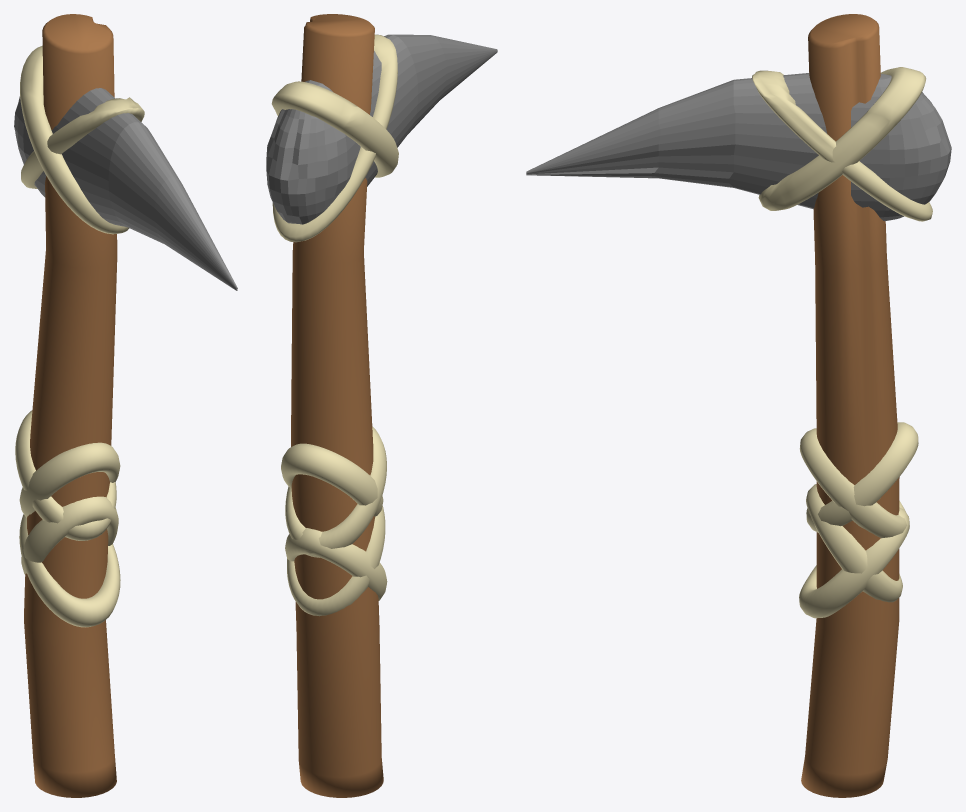
The model's file is pickaxe.glb.
3 views of the same model, side by side, from view 1: azimuth 30°, elevation 25°; view 2: azimuth 150°, elevation 25°; view 3: azimuth 270°, elevation 25° (orthographic).
Parts seen in each view (by area): view 1: Cylinder, Cylinder.001, Torus, Torus.005, Torus.003, Torus.004, Torus.001, Torus.002, Sphere; view 2: Cylinder, Sphere, Cylinder.001, Torus, Torus.001, Torus.002, Torus.003, Torus.004, Torus.005; view 3: Cylinder, Cylinder.001, Sphere, Torus, Torus.001, Torus.003, Torus.005, Torus.002, Torus.004.
Boxes of the visible parts, x1,y1,x2,y2 form: Cylinder: [24, 14, 117, 797]; Cylinder.001: [51, 88, 237, 290]; Torus: [20, 45, 129, 234]; Torus.005: [19, 514, 120, 627]; Torus.003: [19, 442, 120, 517]; Torus.004: [21, 496, 118, 574]; Torus.001: [21, 97, 144, 188]; Torus.002: [15, 410, 116, 540]; Sphere: [14, 96, 46, 197]; Cylinder: [291, 14, 383, 797]; Sphere: [266, 80, 360, 224]; Cylinder.001: [364, 34, 497, 186]; Torus: [271, 81, 398, 177]; Torus.001: [272, 34, 397, 242]; Torus.002: [281, 443, 383, 516]; Torus.003: [285, 426, 386, 557]; Torus.004: [287, 506, 385, 616]; Torus.005: [285, 528, 387, 600]; Cylinder: [801, 14, 899, 797]; Cylinder.001: [526, 73, 827, 209]; Sphere: [851, 74, 951, 221]; Torus: [758, 67, 926, 210]; Torus.001: [752, 70, 932, 221]; Torus.003: [799, 428, 907, 538]; Torus.005: [799, 507, 909, 618]; Torus.002: [806, 422, 918, 532]; Torus.004: [806, 484, 902, 602].
Size of the model in its own units: 0.2695 by 2.09 by 1.06.
